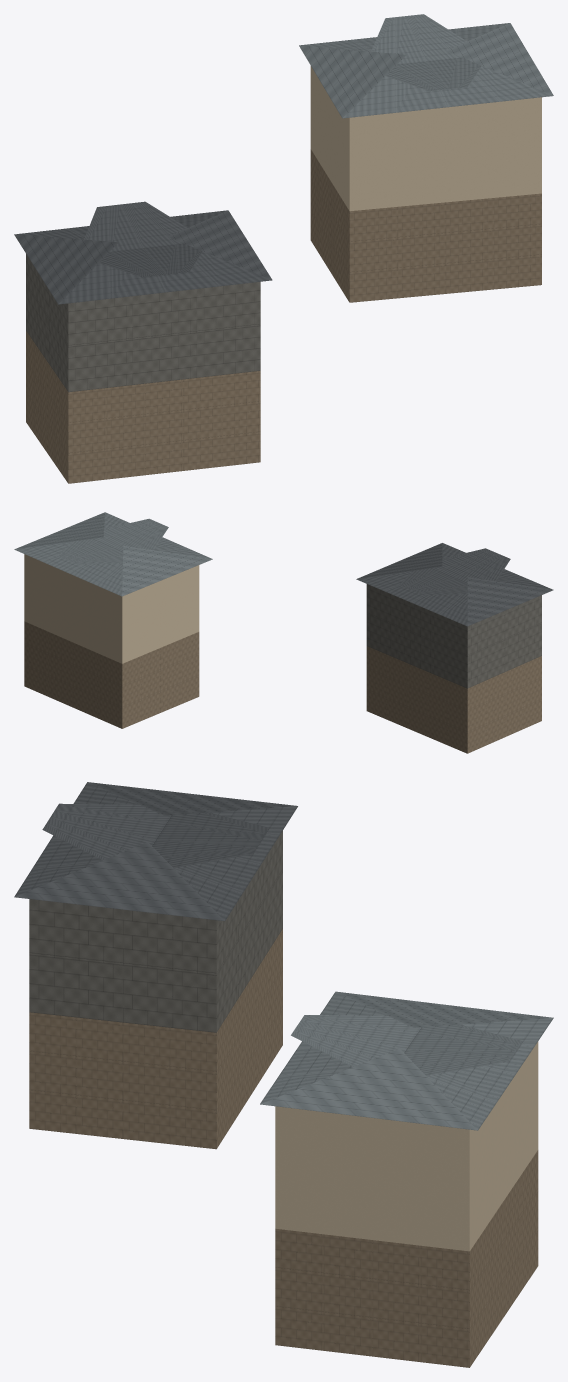
File: bld_c8_8_497.gltf
3 views of the same model, one above another, from view 1: azimuth 30°, elevation 25°; view 2: azimuth 150°, elevation 25°; view 3: azimuth 270°, elevation 25° (orthographic). The views are drawn at different scales.
Visible parts, largest first — view 1: bld_c8_8_497; view 2: bld_c8_8_497; view 3: bld_c8_8_497.
Boxes of the visible parts, box(x1,y1,x2,y2) form: bld_c8_8_497: box(14, 14, 553, 483); bld_c8_8_497: box(14, 512, 553, 753); bld_c8_8_497: box(14, 782, 553, 1367).
Bounding box in the file's own units: 35.31 × 12.5 × 21.43.
5 materials, 5 textured.
